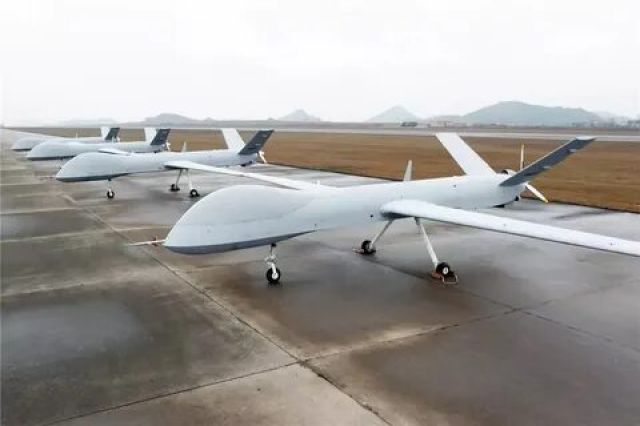military drone: (128, 131, 640, 282), (37, 127, 274, 199), (26, 126, 171, 168), (8, 126, 120, 152)
